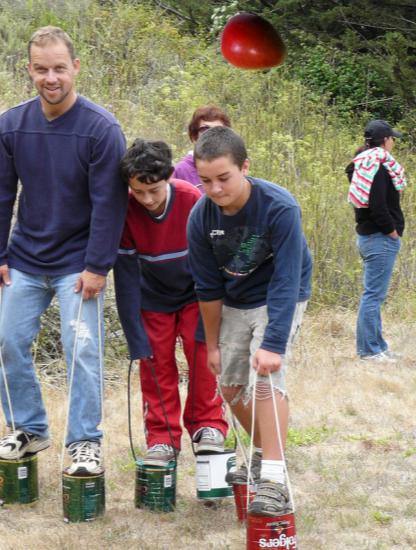Mango: (216, 7, 291, 82)
